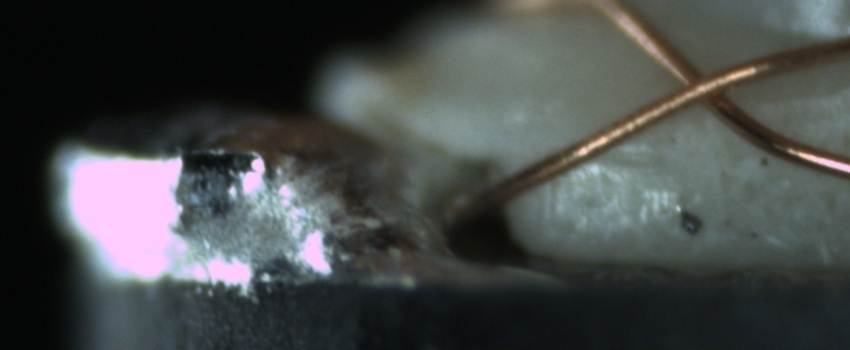CL: (653, 49, 755, 122)
DL: (569, 131, 660, 185)
